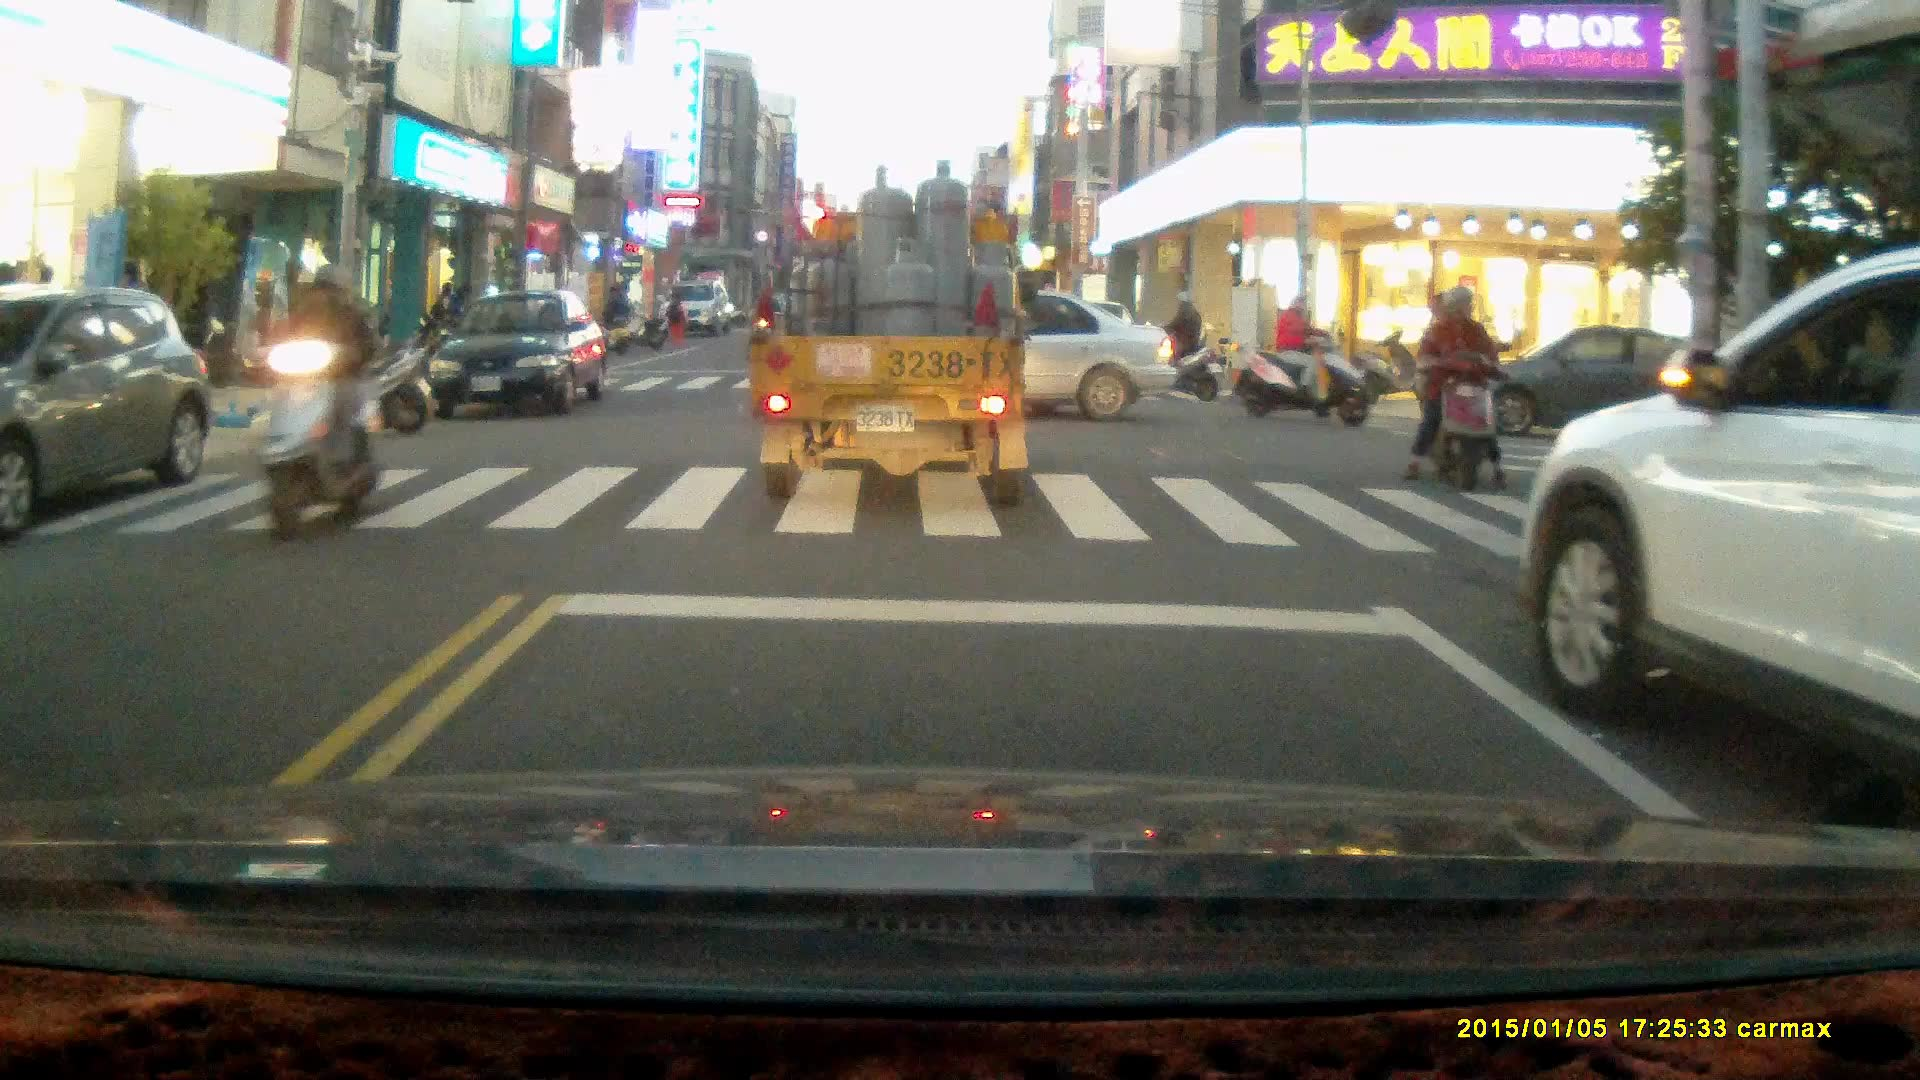pedestrian: (607, 280, 634, 343), (665, 289, 687, 346)
rider: (259, 261, 383, 541), (1401, 285, 1517, 497), (1236, 292, 1372, 425), (1126, 285, 1221, 403)
vehicle: (1519, 248, 1920, 806), (754, 163, 1032, 522), (780, 289, 1178, 423), (1456, 324, 1720, 438), (429, 292, 611, 416), (660, 282, 731, 336)
